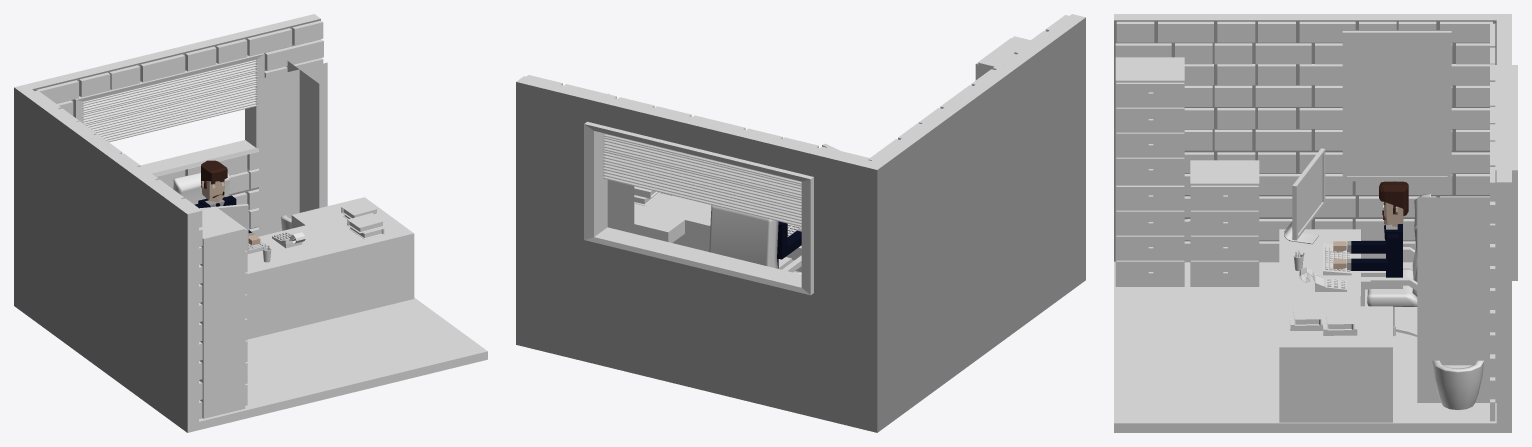
The model's file is Asset  room3.fbx.
3 views of the same model, side by side, from view 1: azimuth 30°, elevation 25°; view 2: azimuth 150°, elevation 25°; view 3: azimuth 270°, elevation 25° (orthographic). The views are drawn at different scales.
Parts seen in each view (by area): view 1: Cube.010, Plane.016, Plane.022, Cube.013, Plane.021, Cube.023, Cube.021, Cube.015, Cube.012, Cube.014, Cube.068, Circle.014 (+1 smaller); view 2: Cube.010, Cube.015, Plane.021, Plane.016, Circle.014, Plane.022, Cube.013, Cube.012, Cube.023, Cube.014; view 3: Cube.010, Cube.012, Plane.019, Plane.016, Plane.022, Cube.023, Cube.022, Cube.021, Cube.014, Cube.013, Plane.017, Circle.014 (+5 smaller).
Boxes of the visible parts, bbox=[...] form: Cube.010: bbox=[14, 14, 487, 432]; Plane.016: bbox=[245, 197, 414, 339]; Plane.022: bbox=[259, 61, 327, 236]; Cube.013: bbox=[36, 20, 323, 236]; Plane.021: bbox=[82, 60, 257, 142]; Cube.023: bbox=[199, 207, 247, 328]; Cube.021: bbox=[199, 318, 247, 418]; Cube.015: bbox=[73, 53, 264, 176]; Cube.012: bbox=[35, 90, 202, 418]; Cube.014: bbox=[194, 160, 260, 245]; Cube.068: bbox=[341, 200, 384, 239]; Circle.014: bbox=[173, 172, 229, 204]; Cube.010: bbox=[516, 14, 1085, 432]; Cube.015: bbox=[584, 121, 813, 295]; Plane.021: bbox=[603, 133, 801, 226]; Plane.016: bbox=[634, 193, 801, 271]; Circle.014: bbox=[709, 205, 801, 274]; Plane.022: bbox=[607, 94, 634, 233]; Cube.013: bbox=[526, 75, 869, 159]; Cube.012: bbox=[868, 15, 1069, 160]; Cube.023: bbox=[975, 36, 1030, 80]; Cube.014: bbox=[777, 221, 801, 269]; Cube.010: bbox=[1114, 14, 1511, 432]; Cube.012: bbox=[1115, 21, 1492, 262]; Plane.019: bbox=[1342, 30, 1451, 181]; Plane.016: bbox=[1279, 229, 1392, 422]; Plane.022: bbox=[1417, 197, 1496, 402]; Cube.023: bbox=[1115, 57, 1184, 183]; Cube.022: bbox=[1190, 160, 1259, 286]; Cube.021: bbox=[1115, 184, 1184, 286]; Cube.014: bbox=[1333, 181, 1408, 306]; Cube.013: bbox=[1490, 23, 1495, 421]; Plane.017: bbox=[1284, 148, 1325, 244]; Circle.014: bbox=[1367, 193, 1431, 336].
Size of the model in its own units: 305 by 212 by 310.
